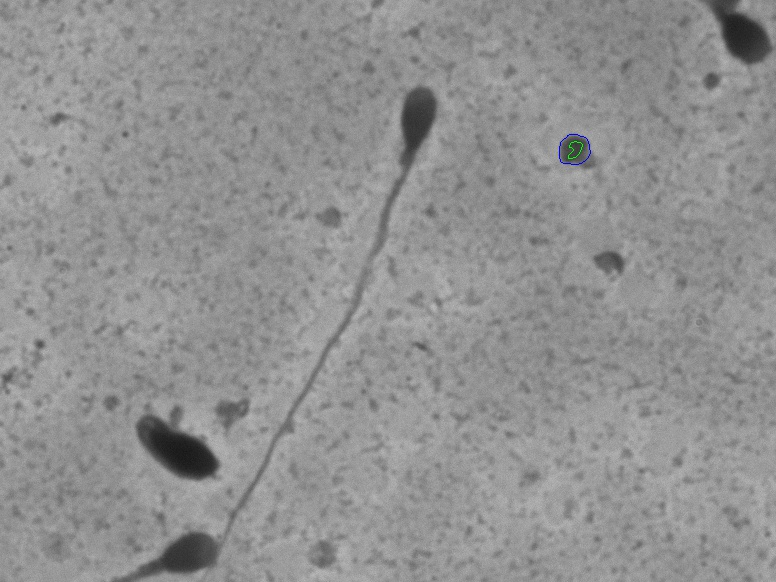Abnormal: (204, 63, 453, 565), (104, 395, 229, 487)
